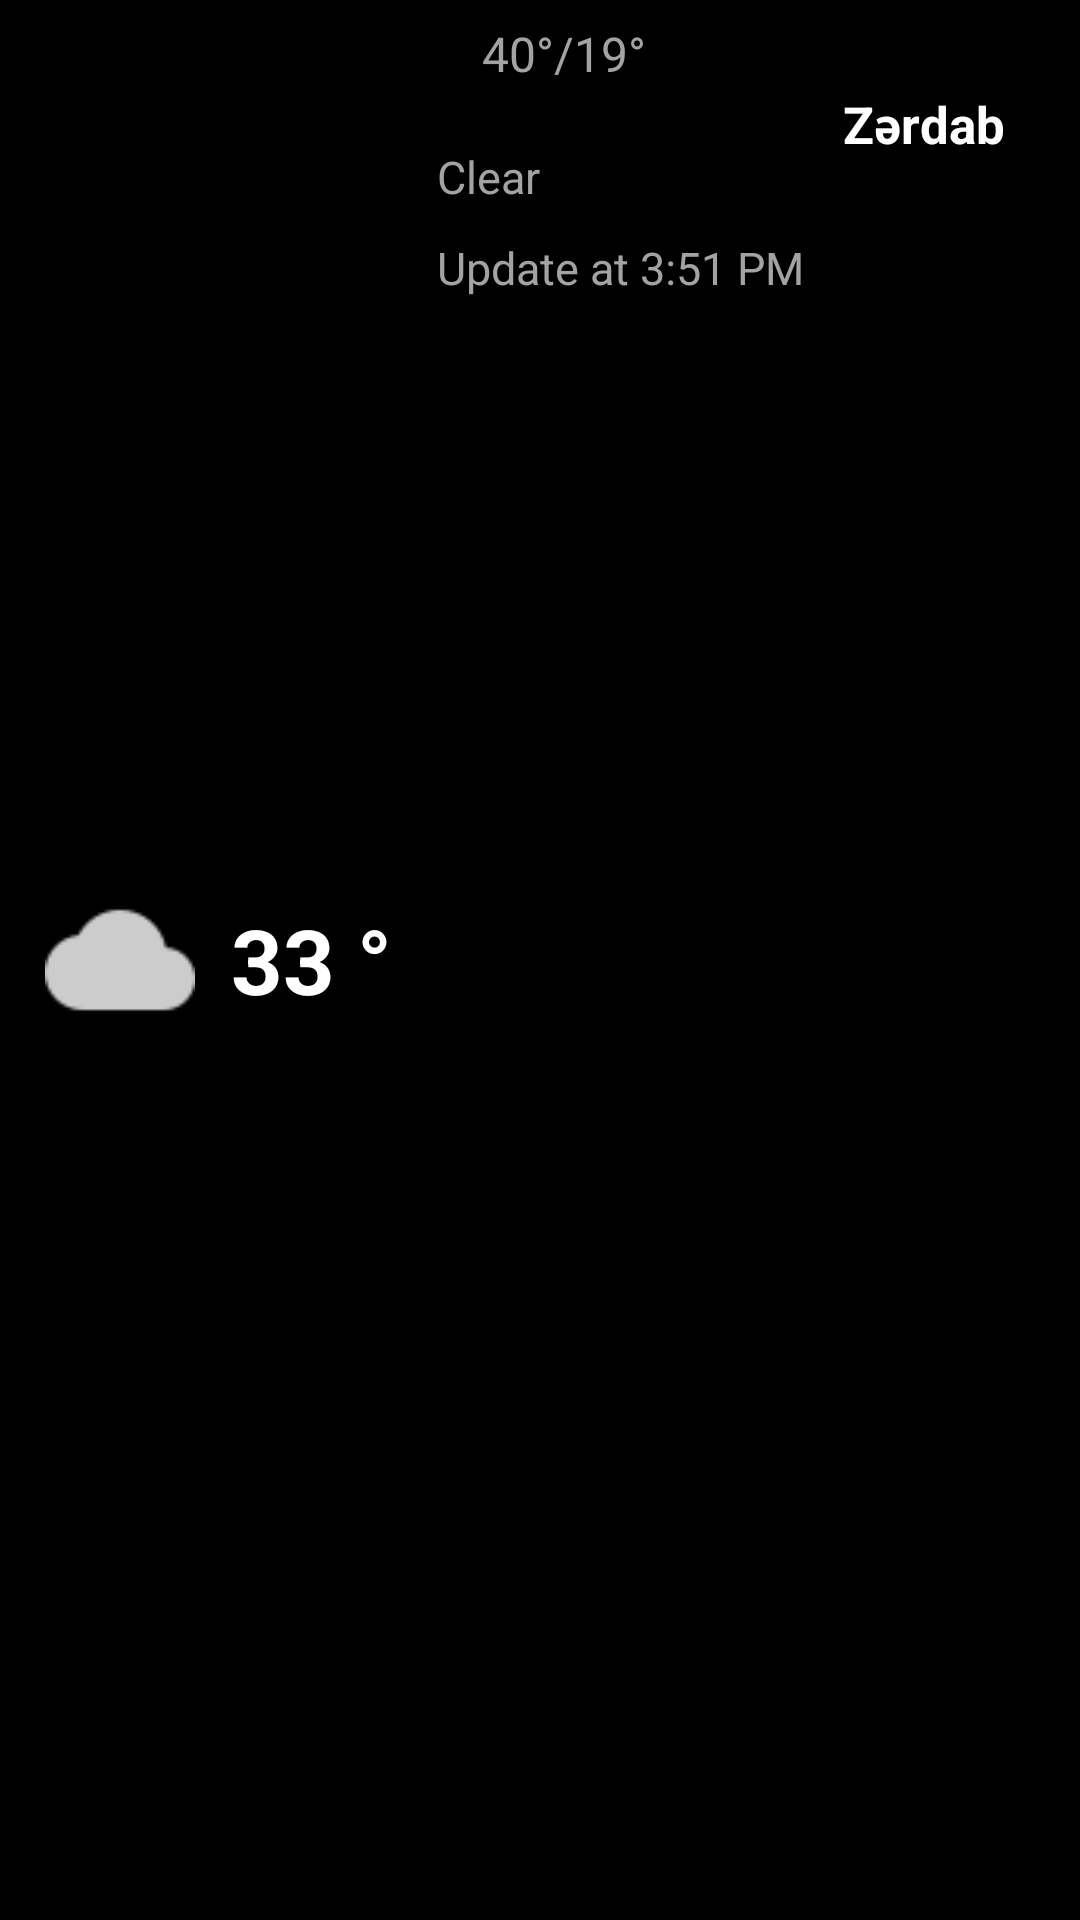

Screen size 1080px×1920px. Icon name, then its center in pixels as point (x, y):
cloud: point (120, 960)
